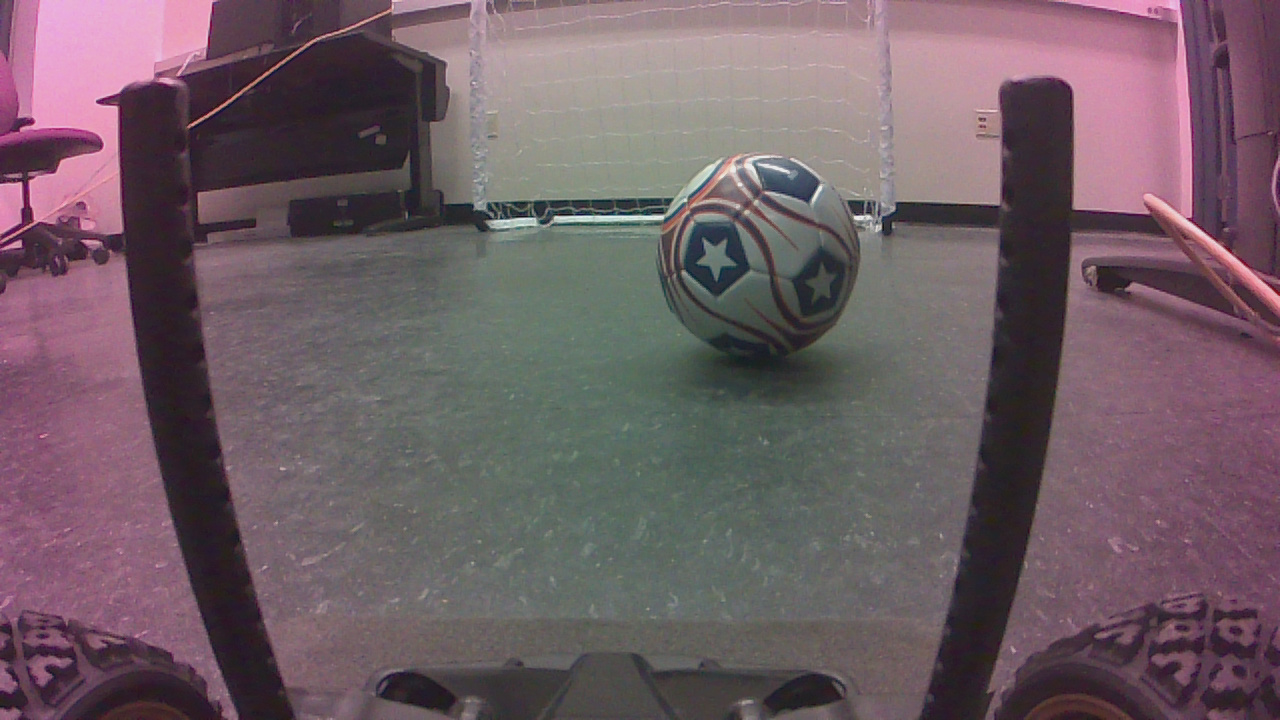ball: (661, 160, 867, 367)
goal: (472, 4, 903, 243)
